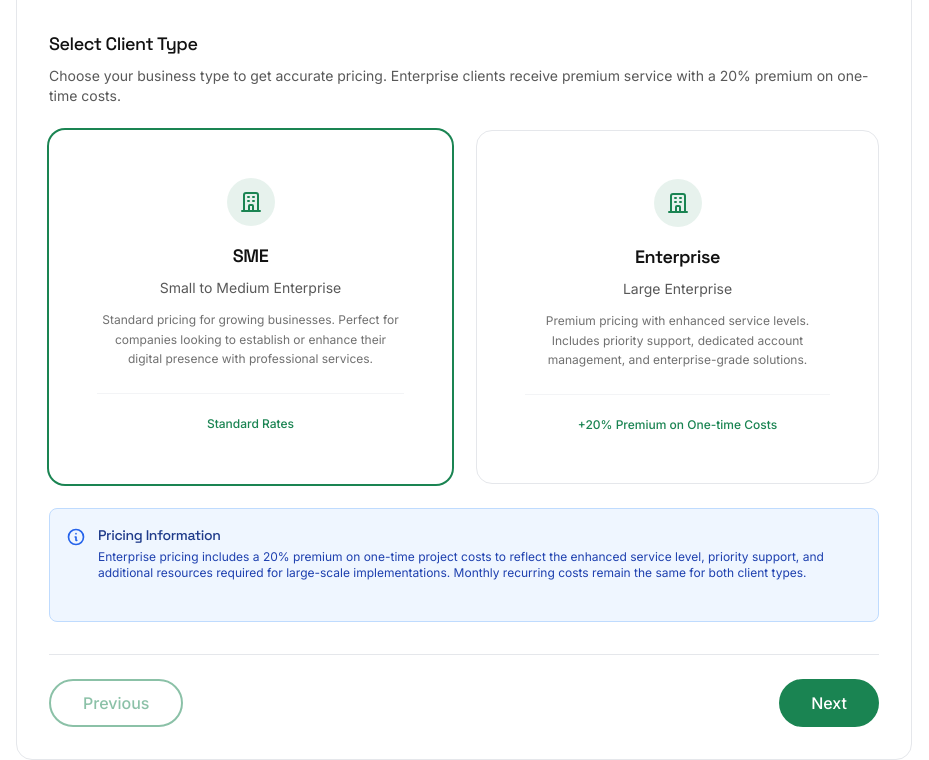
Test case: PricingCalculator UI Components › Step Navigation and Progress Indicator › should update progress percentage correctly
(page scrolled)
# Navigate to step 2
Click the button "Next" at (829, 702), box [779,678,879,726]
(page scrolled)
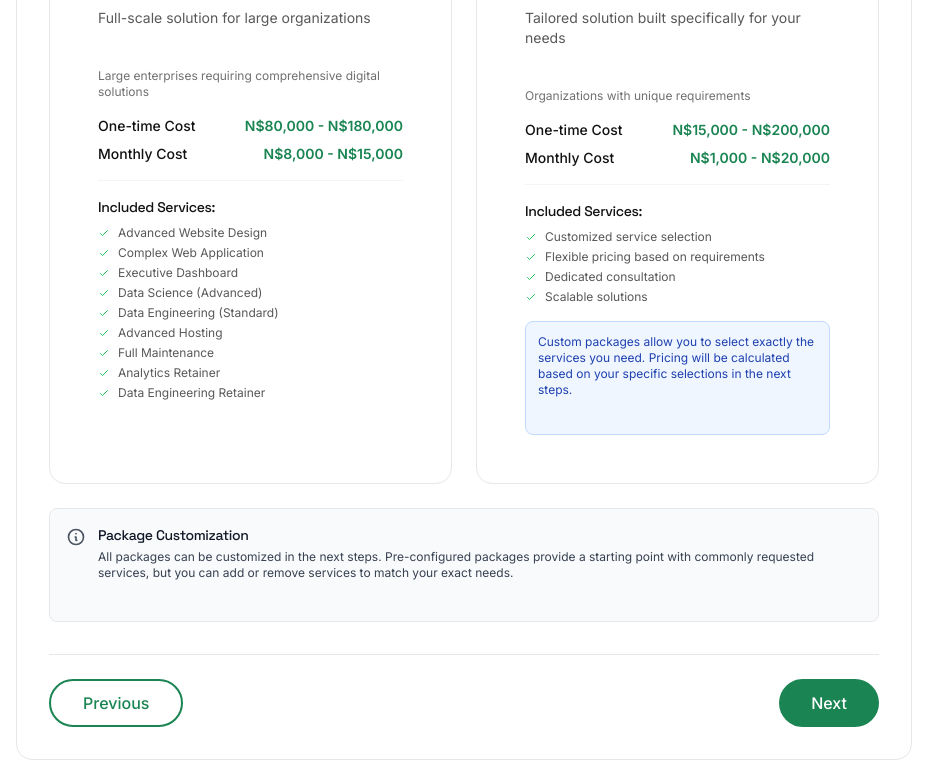
# Navigate to step 3
Click the button "Next" at (829, 703), box [779,679,879,727]
(page scrolled)
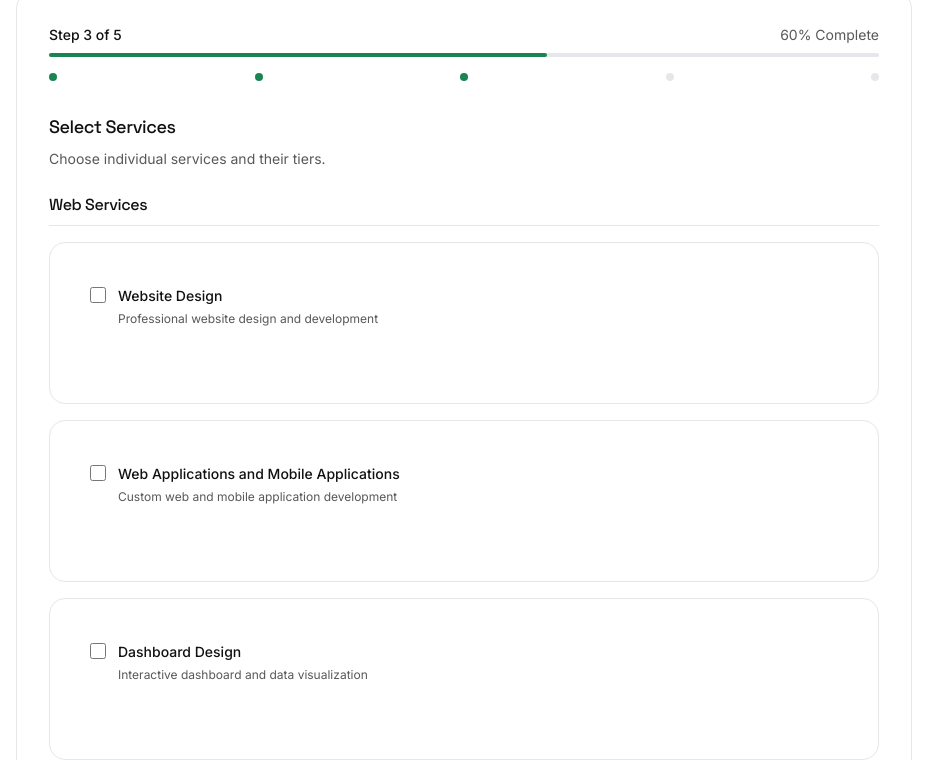
Expected: the text "60% Complete" is shown, [780,25,879,45]
